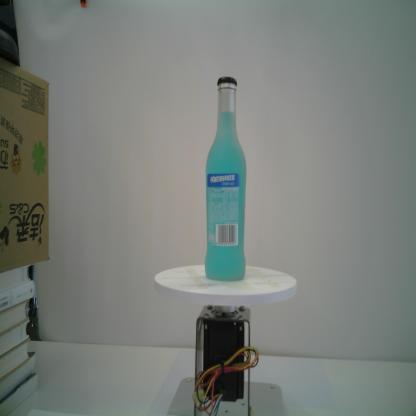Alcohol: (204, 76, 247, 280)
